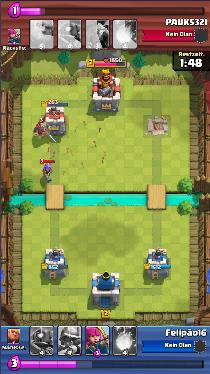enemy_arrow: (47, 120, 108, 168)
enemy_knight: (31, 121, 51, 140)
enemy_musketeer: (41, 162, 54, 182)
